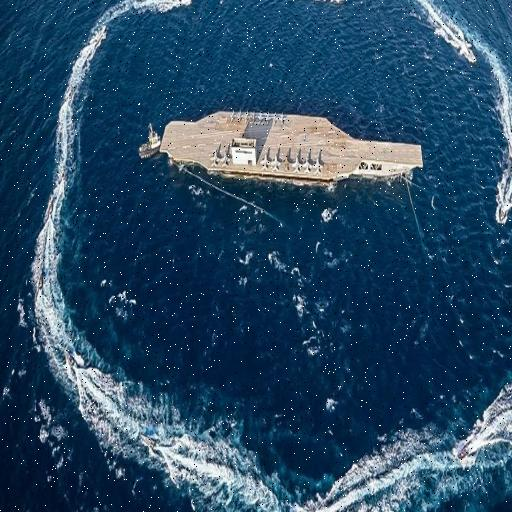Portanaves: (158, 112, 433, 193)
